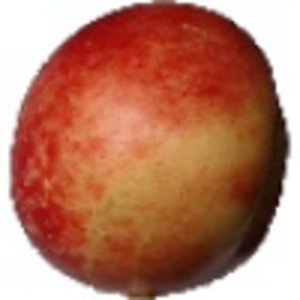nectarina: (1, 1, 290, 300)
